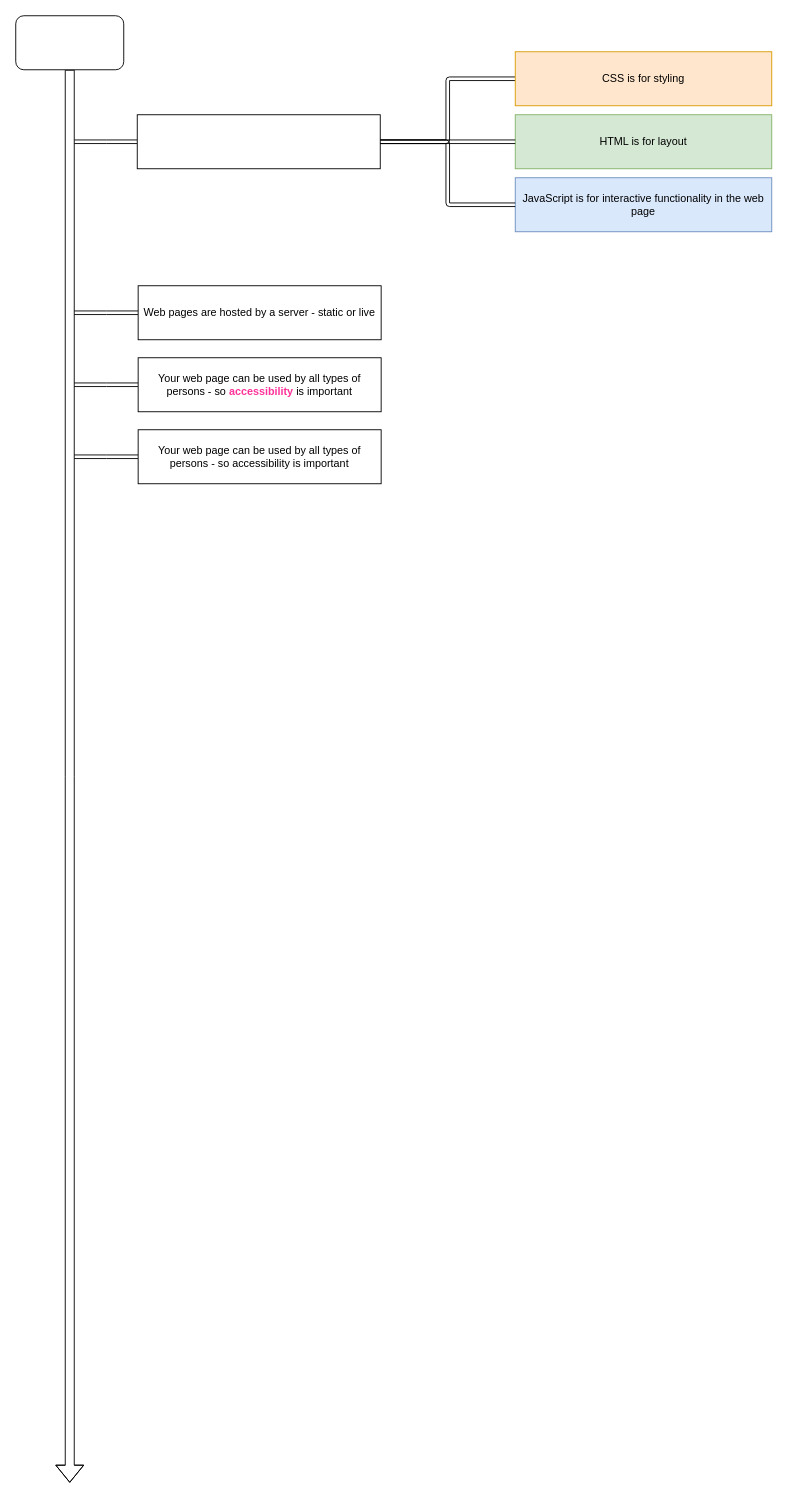
This 788x1499 diagram has some shape labels left out. Here are the shapes that lost their labels. From the top down, the centre of each, then its label:
point 69,42: Start here
point 258,141: It has three main concepts - Layout , Styles and Interactivity
